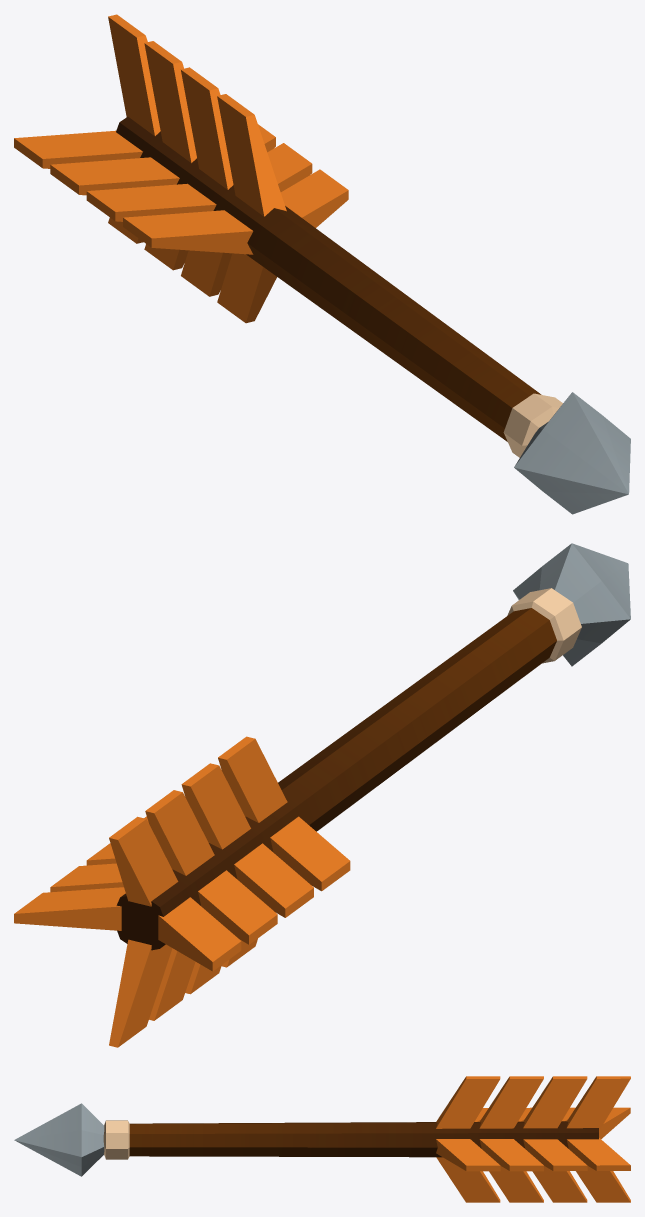
Rendered from ArrowRain.fbx.
The picture shows the model from 3 angles, top to bottom: view 1: azimuth 30°, elevation 25°; view 2: azimuth 150°, elevation 25°; view 3: azimuth 270°, elevation 25°; orthographic projection. The views are drawn at different scales.
Parts seen in each view (by area): view 1: SM_Wep_Arrow_01; view 2: SM_Wep_Arrow_01; view 3: SM_Wep_Arrow_01.
Part boxes in pixels (box(x1,y1,x2,y2)): SM_Wep_Arrow_01: box(14, 14, 630, 514); SM_Wep_Arrow_01: box(14, 543, 630, 1047); SM_Wep_Arrow_01: box(14, 1076, 630, 1202).
Size of the model in its own units: 0.2333 by 0.2327 by 1.05.
